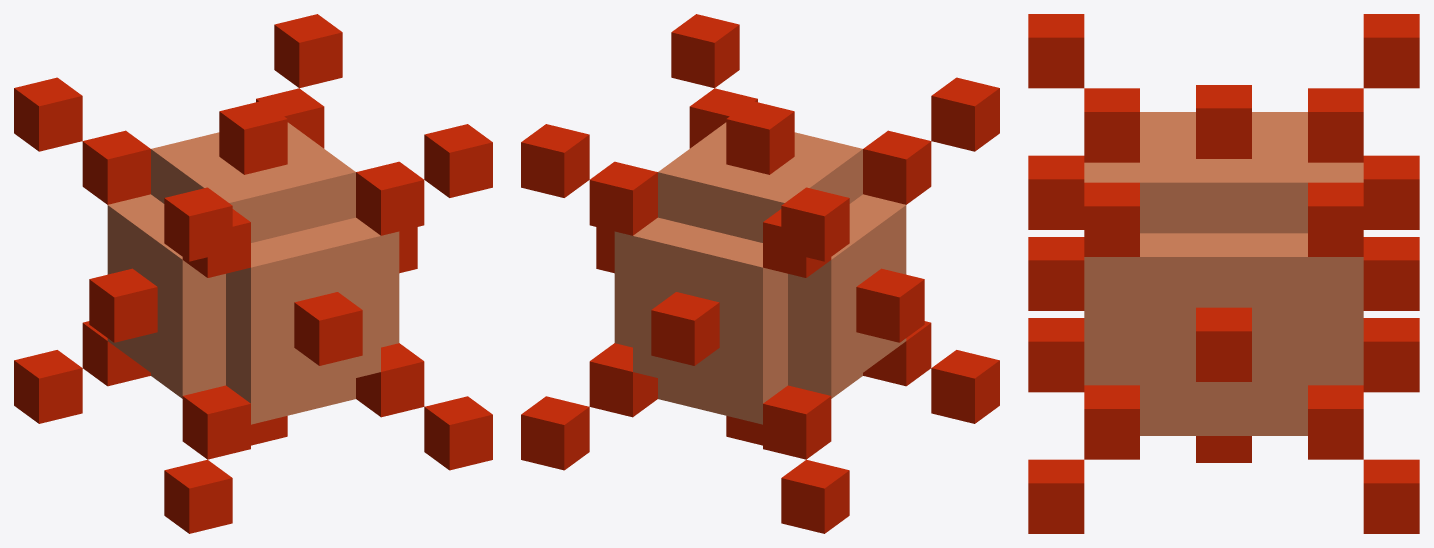
File: superheat_part.dae
3 renders of one model, left to right at view 1: azimuth 30°, elevation 25°; view 2: azimuth 150°, elevation 25°; view 3: azimuth 270°, elevation 25°, orthographic. The views are drawn at different scales.
Visible parts, largest first — view 1: illusionpart; view 2: illusionpart; view 3: illusionpart.
Part boxes in pixels (x1,y1,x2,y2): illusionpart: (14,14,492,533); illusionpart: (521,14,999,533); illusionpart: (1028,14,1419,533).
Size of the model in its own units: 7 by 7 by 7.
